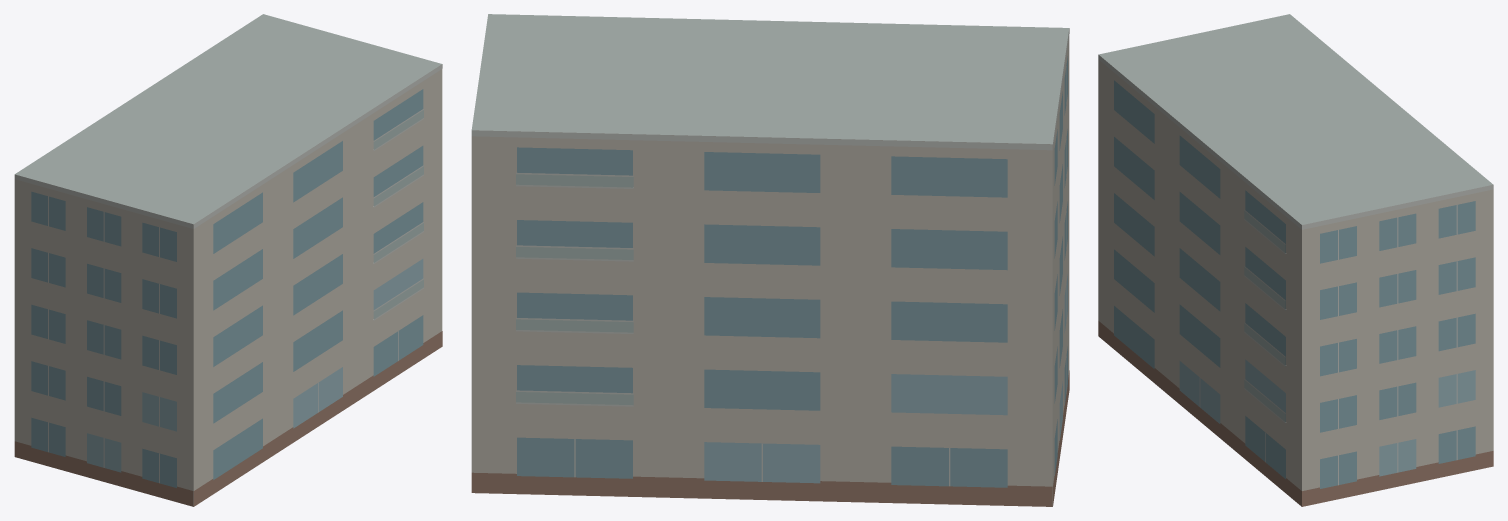
Rendered from survey-upis-32973140.glb.
The picture shows the model from 3 angles, left to right: view 1: azimuth 30°, elevation 25°; view 2: azimuth 150°, elevation 25°; view 3: azimuth 270°, elevation 25°; orthographic projection. The views are drawn at different scales.
Parts seen in each view (by area): view 1: survey-upis-32973140.tmp; view 2: survey-upis-32973140.tmp; view 3: survey-upis-32973140.tmp.
Part boxes in pixels (x1=…): survey-upis-32973140.tmp: x1=14, y1=14, x2=442, y2=506; survey-upis-32973140.tmp: x1=471, y1=14, x2=1069, y2=506; survey-upis-32973140.tmp: x1=1098, y1=14, x2=1493, y2=506.
Bounding box in the file's own units: 23.31 × 14.5 × 18.44.
